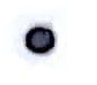cancer: (8, 9, 71, 68)
